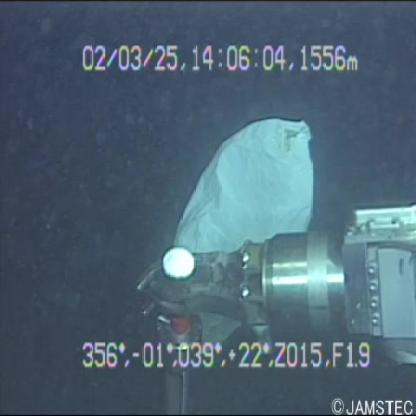Rov: (131, 201, 416, 357)
Rác: (166, 105, 316, 276)
